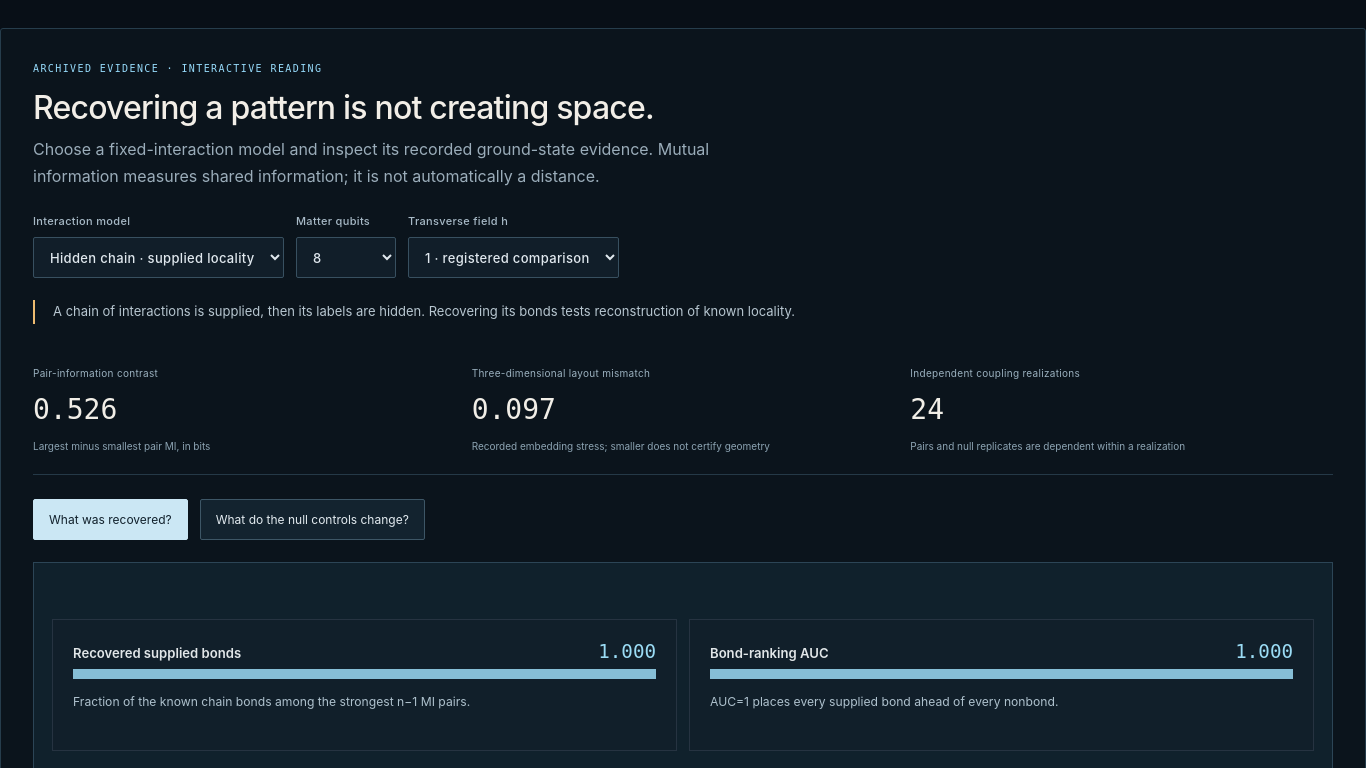
Scenario: archived quantum evidence interactions › gives the symmetric model no artificial ensemble interval
Expected: the element named "Recovered supplied bonds" is shown, [73,664,656,684]
Select "A · uniform all-to-all" in the dropdown named "Quantum interaction model" at (158, 258), box [33,237,284,278]
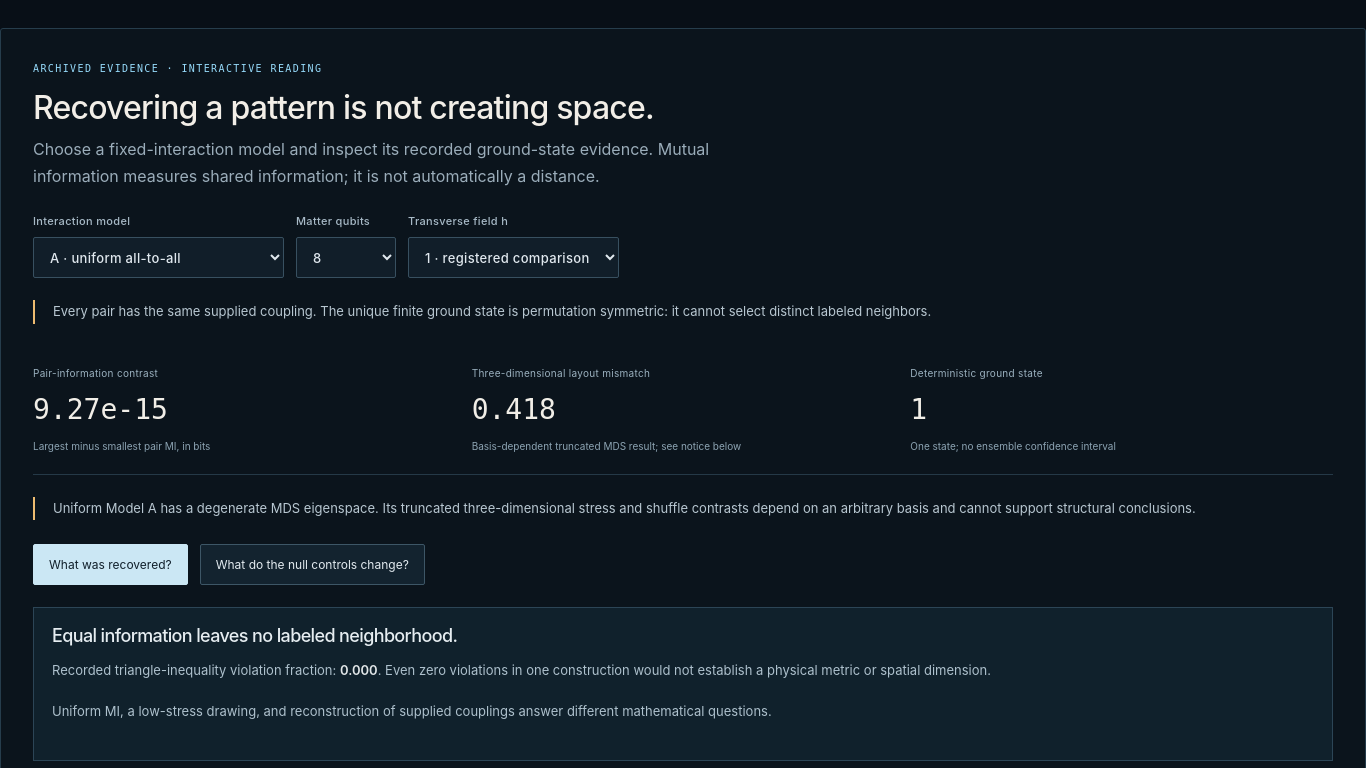
Expected: the text "1" is shown, [910,393,927,426]
Expected: the text "One state; no ensemble confidence interval" is shown, [910,440,1116,452]
Expected: the text "cannot select distinct labeled neighbors" is shown, [53,303,931,319]
Click the button "What do the null controls change?" at (312, 565), box [200,544,425,585]
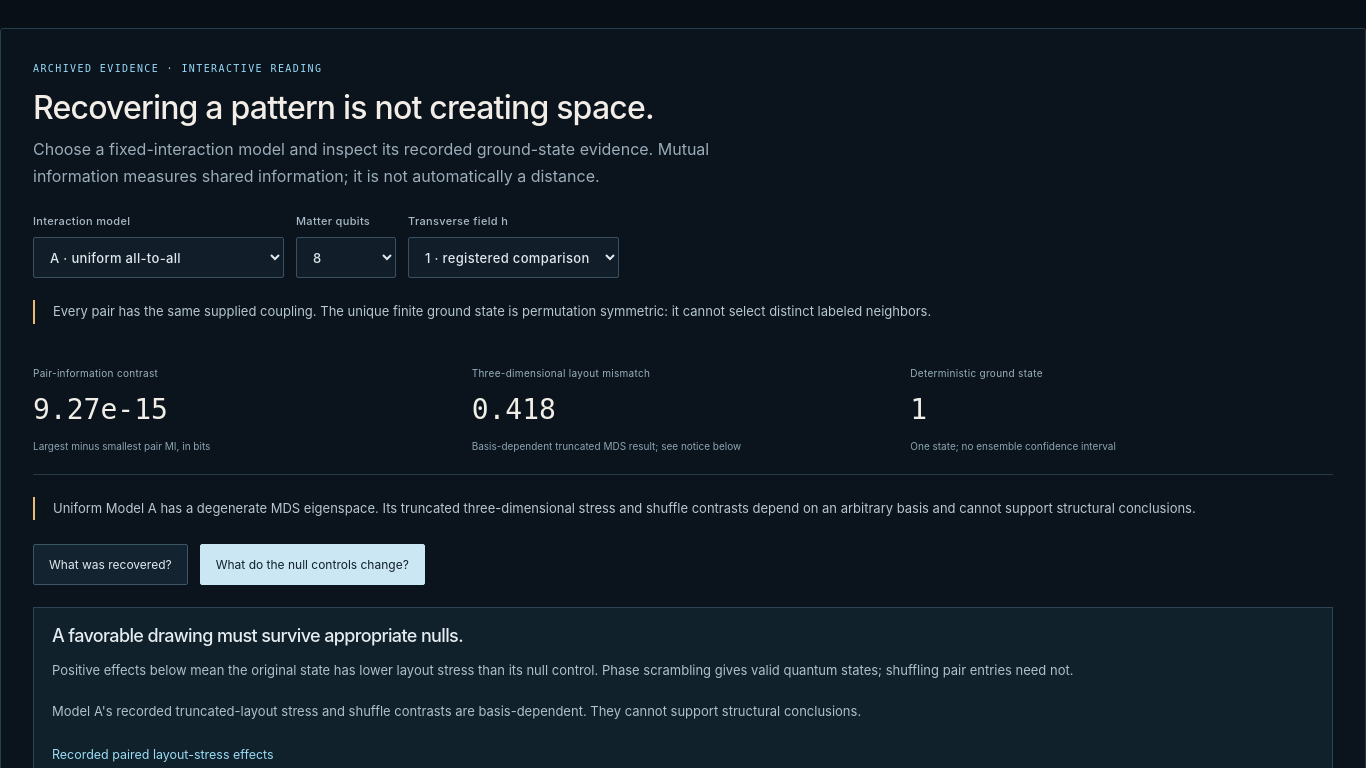
Expected: the text "Model A's recorded truncated-layout stress and shuffle contrasts are basis-dependent" is shown, [52,704,861,720]
